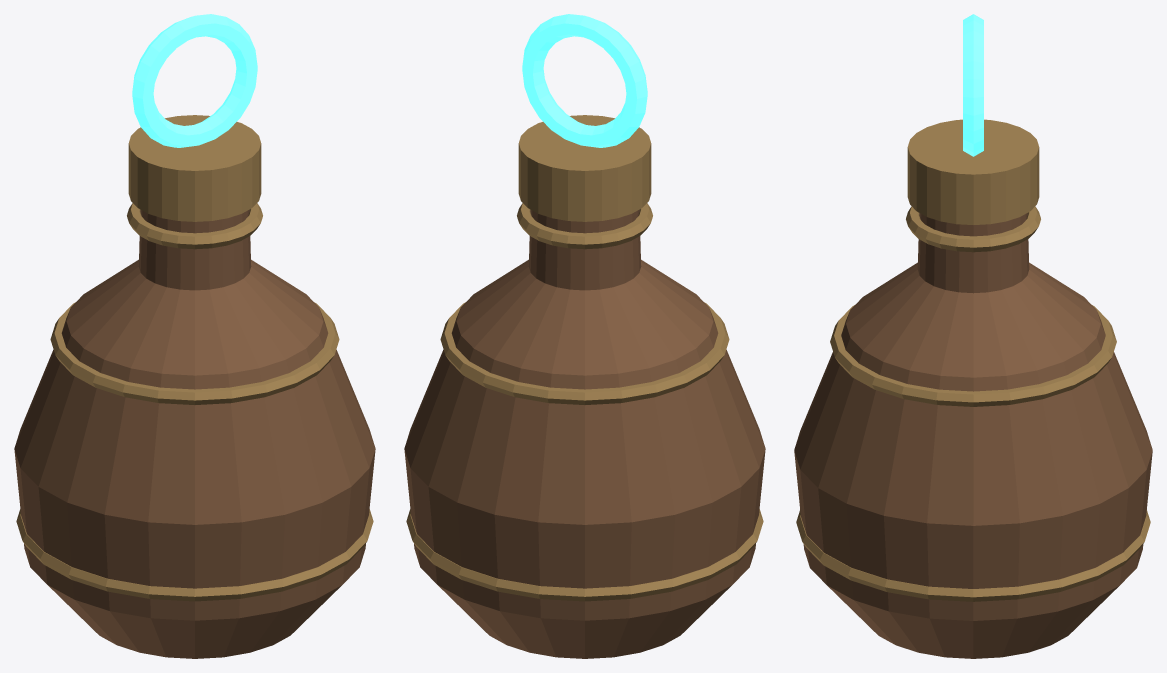
File: perfume_jar.fbx
3 renders of one model, left to right at view 1: azimuth 30°, elevation 25°; view 2: azimuth 150°, elevation 25°; view 3: azimuth 270°, elevation 25°, orthographic.
Parts seen in each view (by area): view 1: perfume_jar_Body.011, perfume_jar_Grip.011; view 2: perfume_jar_Body.011, perfume_jar_Grip.011; view 3: perfume_jar_Body.011, perfume_jar_Grip.011.
Boxes of the visible parts, x1,y1,x2,y2 form: perfume_jar_Body.011: (14, 115, 375, 658); perfume_jar_Grip.011: (132, 14, 257, 147); perfume_jar_Body.011: (404, 115, 765, 658); perfume_jar_Grip.011: (522, 14, 647, 147); perfume_jar_Body.011: (794, 119, 1152, 658); perfume_jar_Grip.011: (963, 14, 983, 156).
Size of the model in its own units: 0.18 by 0.328 by 0.18.
